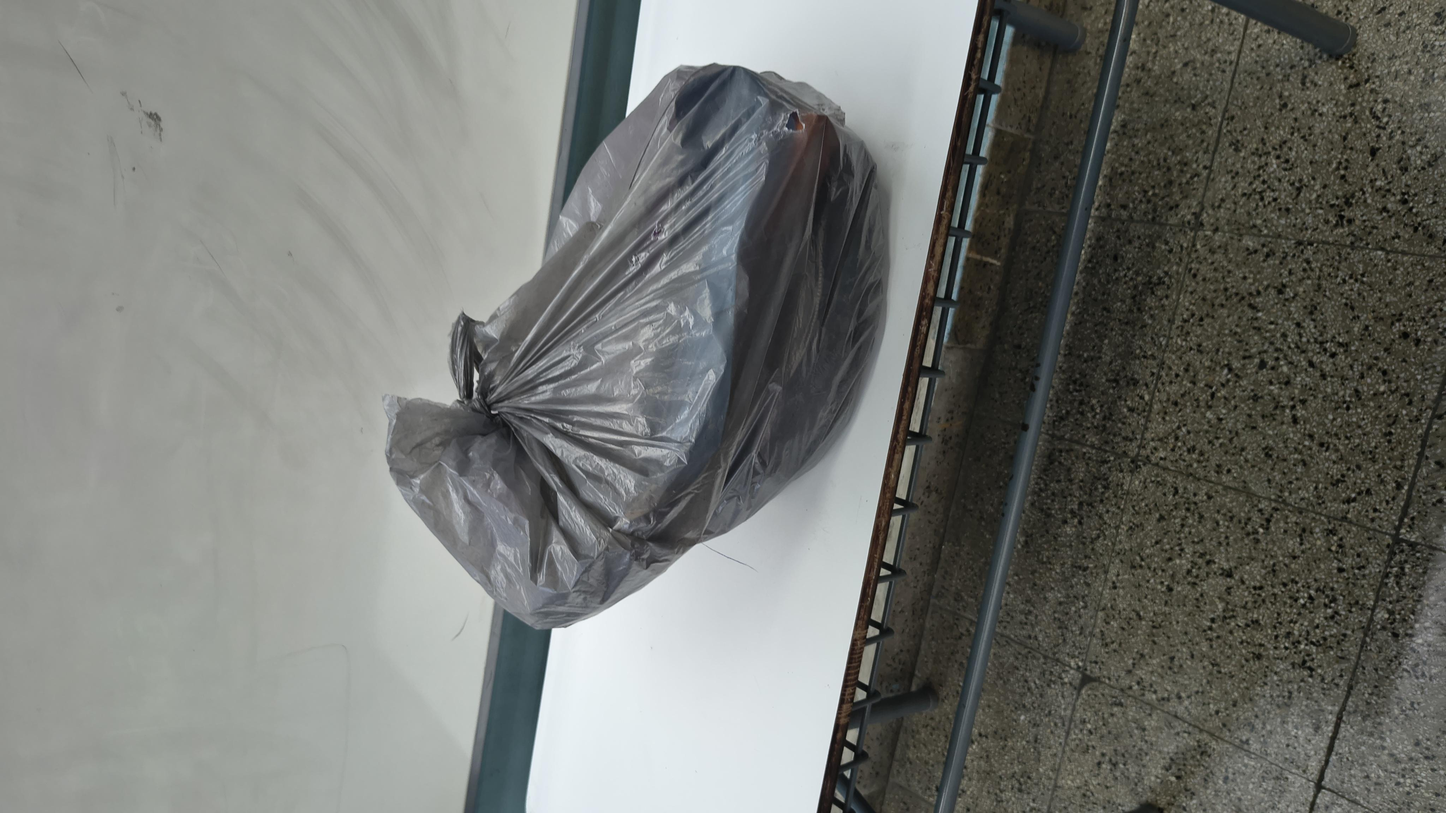Garbage: (270, 198, 1425, 536)
